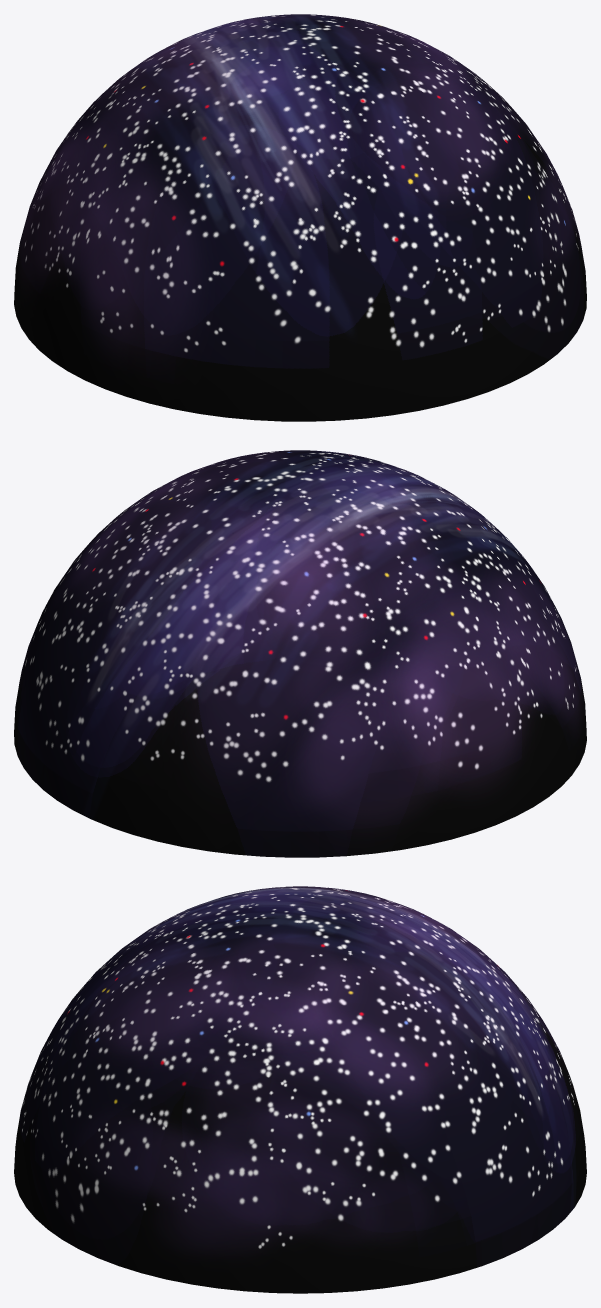
Rendered from sphere_roof.glb.
3 renders of one model, top to bottom at view 1: azimuth 30°, elevation 25°; view 2: azimuth 150°, elevation 25°; view 3: azimuth 270°, elevation 25°, orthographic.
Visible parts, largest first — view 1: Sphere; view 2: Sphere; view 3: Sphere.
Boxes of the visible parts, x1,y1,x2,y2 form: Sphere: (14,14,586,421); Sphere: (14,450,586,857); Sphere: (14,886,586,1293).
Size of the model in its own units: 22.19 by 11.09 by 22.19.
1 material, 1 textured.
